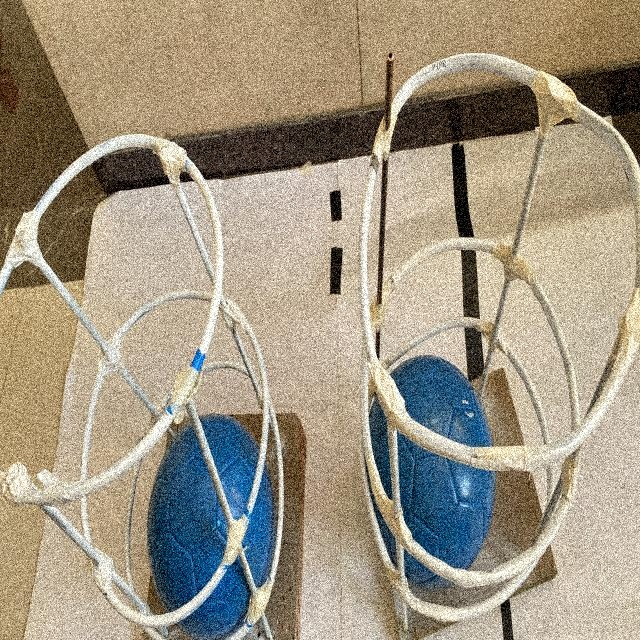blue_ball: (368, 351, 498, 592), (143, 409, 274, 638)
silo: (354, 61, 640, 640), (1, 132, 305, 640)
